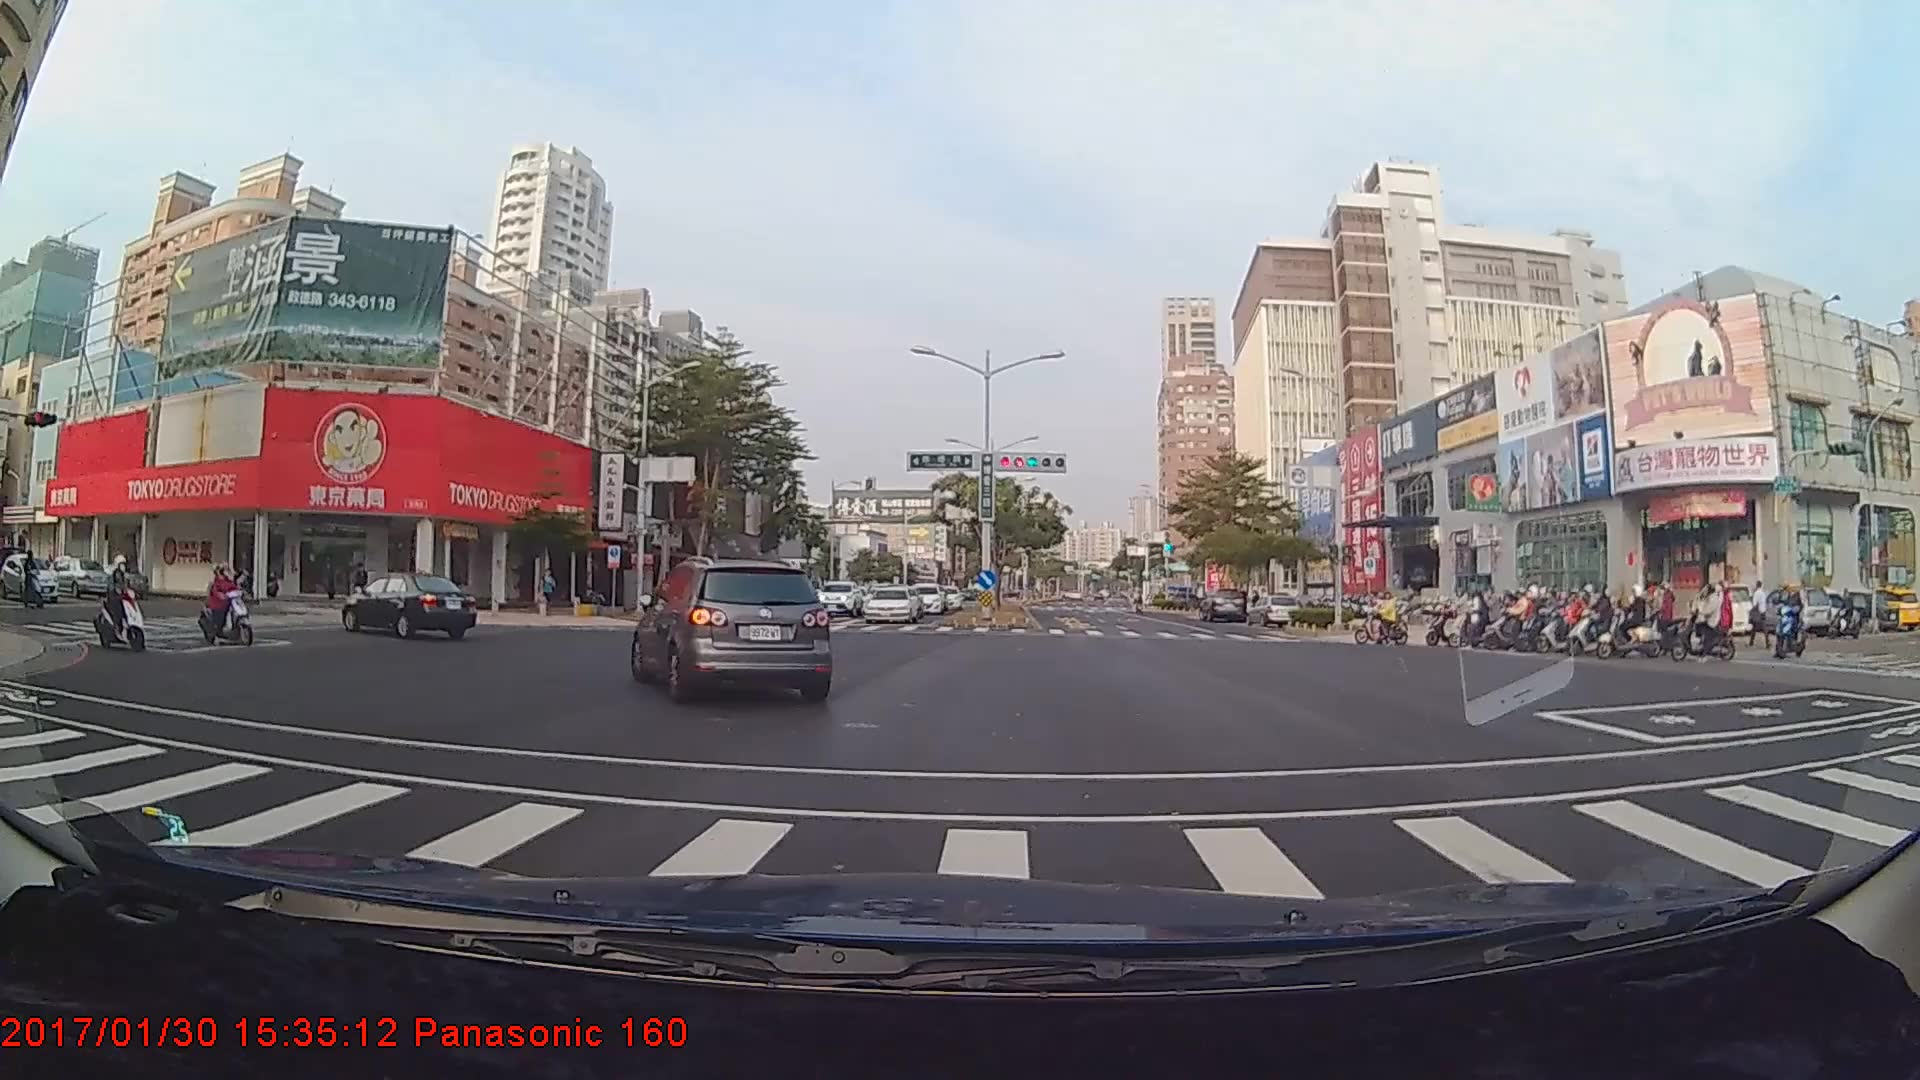rider: (1665, 578, 1735, 667), (91, 555, 155, 652), (197, 565, 259, 646), (1582, 585, 1647, 657), (1569, 587, 1634, 654), (1428, 591, 1497, 648), (1348, 585, 1408, 645), (1768, 590, 1812, 666), (1487, 587, 1543, 646), (1529, 586, 1571, 650)
vehicle: (633, 551, 834, 700), (339, 573, 477, 642), (0, 552, 62, 601), (45, 554, 114, 594), (863, 585, 922, 624), (811, 578, 864, 616), (1198, 585, 1245, 620), (907, 581, 944, 614)
